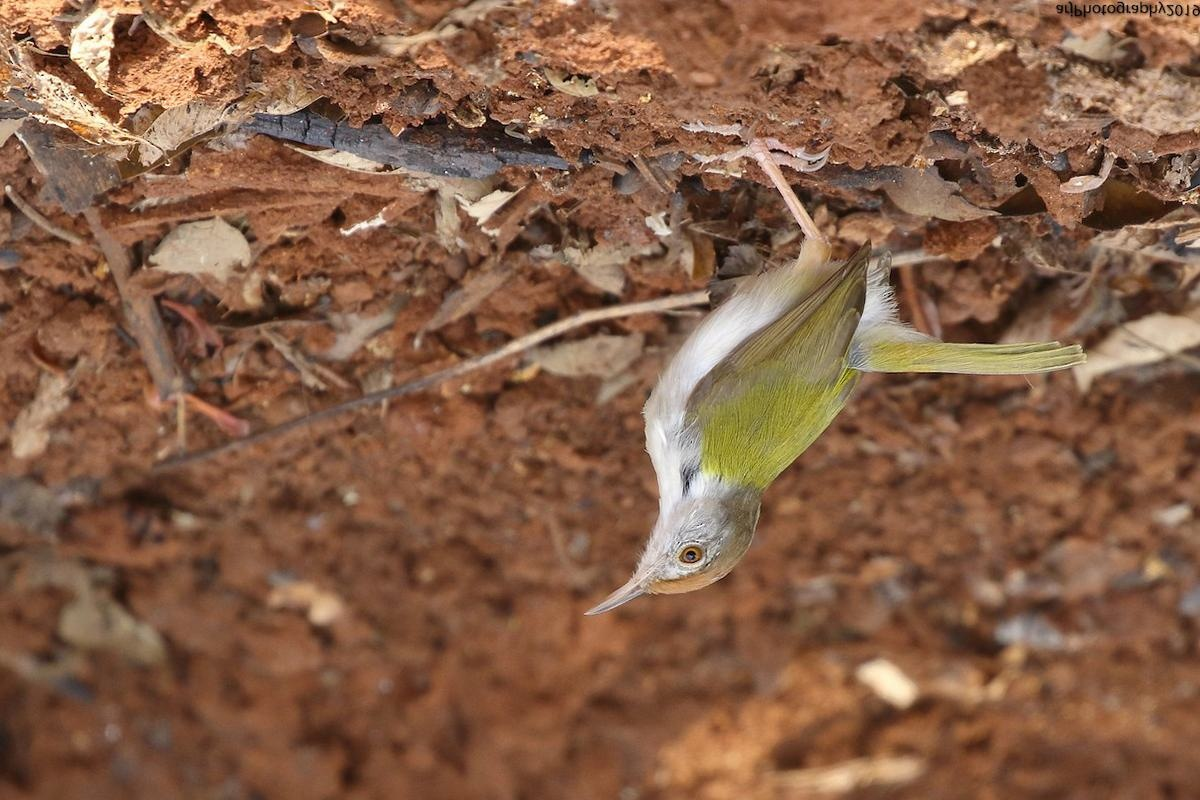tailorbird: (587, 223, 959, 626)
